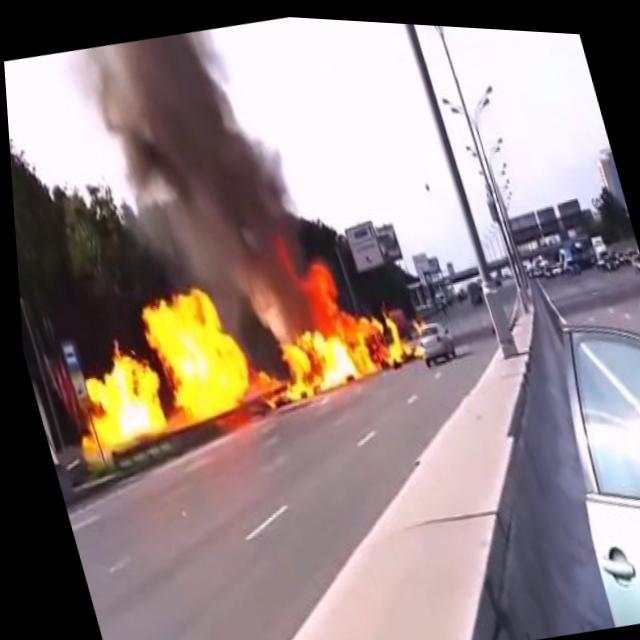fire: (225, 216, 422, 412), (125, 263, 262, 435), (46, 323, 183, 490)
